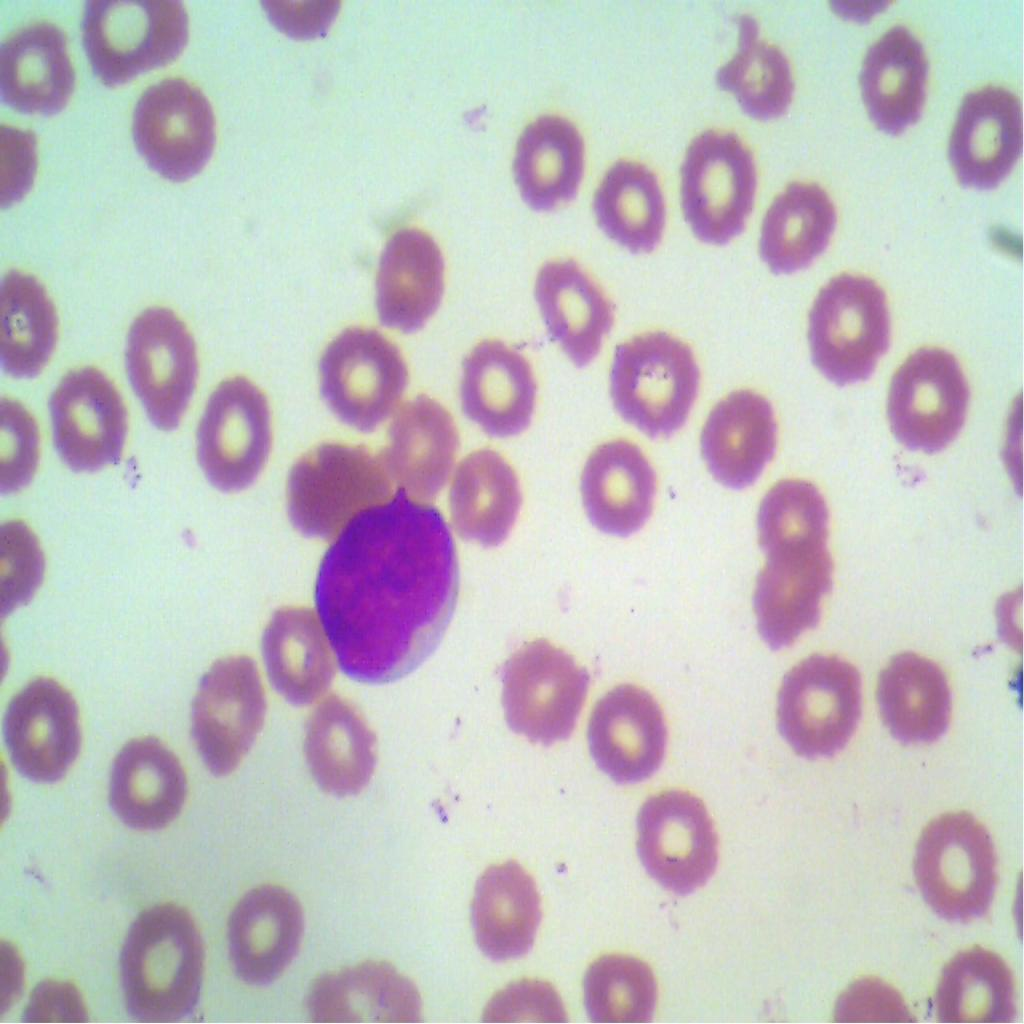Eritrosit: (902, 790, 1006, 928), (524, 244, 629, 379), (669, 111, 758, 269), (768, 644, 878, 771), (108, 887, 209, 1023), (270, 431, 396, 535), (190, 642, 268, 797), (936, 68, 1023, 204), (578, 434, 668, 565), (364, 211, 448, 351), (631, 784, 724, 908), (586, 666, 673, 796), (193, 370, 276, 506), (806, 265, 890, 398), (854, 7, 935, 142), (496, 637, 589, 754), (0, 672, 88, 795), (121, 292, 196, 435), (319, 319, 409, 437), (886, 344, 978, 458), (603, 321, 695, 435), (46, 351, 128, 478), (468, 840, 549, 968), (752, 169, 838, 288), (122, 74, 218, 180), (696, 381, 783, 497), (878, 644, 960, 767), (744, 544, 846, 641), (501, 104, 586, 218), (715, 17, 802, 128), (101, 734, 193, 837), (922, 931, 1023, 1023), (223, 881, 308, 989), (82, 0, 198, 79), (594, 145, 666, 266), (292, 702, 378, 801), (761, 462, 838, 571), (0, 17, 76, 127), (263, 592, 335, 701), (459, 332, 536, 432), (382, 394, 456, 490), (454, 447, 519, 555), (0, 272, 66, 377), (574, 947, 660, 1023)
Limfoblast: (306, 490, 460, 698)
